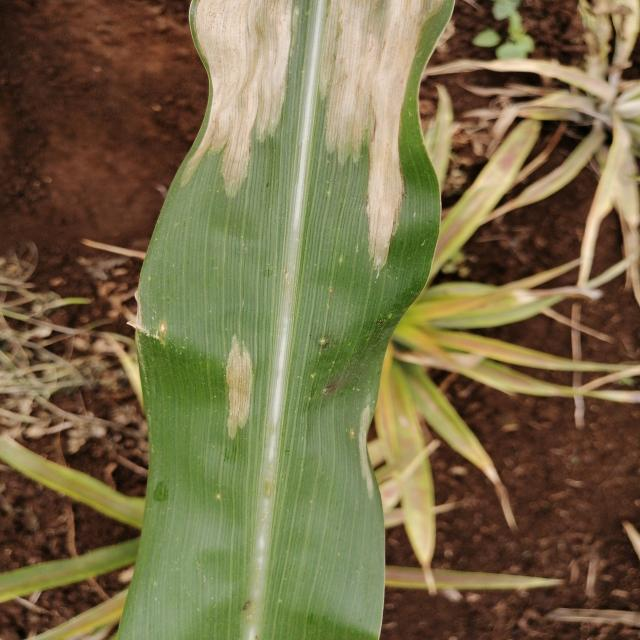Corn_Leaf_Blight: (129, 0, 441, 640)
